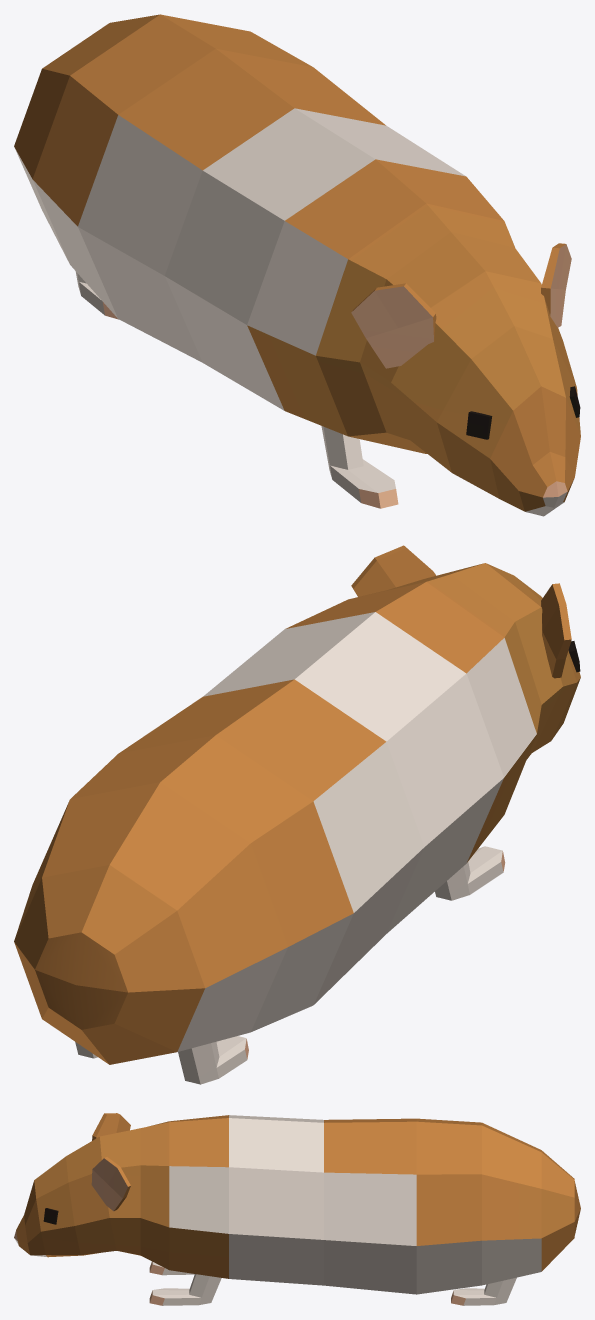
File: 3YtzEQ5TVUP.glb
3 renders of one model, top to bottom at view 1: azimuth 30°, elevation 25°; view 2: azimuth 150°, elevation 25°; view 3: azimuth 270°, elevation 25°, orthographic. The views are drawn at different scales.
Visible parts, largest first — view 1: Geo_Hamster; view 2: Geo_Hamster; view 3: Geo_Hamster.
Boxes of the visible parts, x1,y1,x2,y2 form: Geo_Hamster: (14, 14, 580, 516); Geo_Hamster: (14, 545, 580, 1084); Geo_Hamster: (14, 1113, 580, 1305).
Bounding box in the file's own units: 0.9788 × 1 × 2.96.
Materials: 1 (1 with a texture image).
